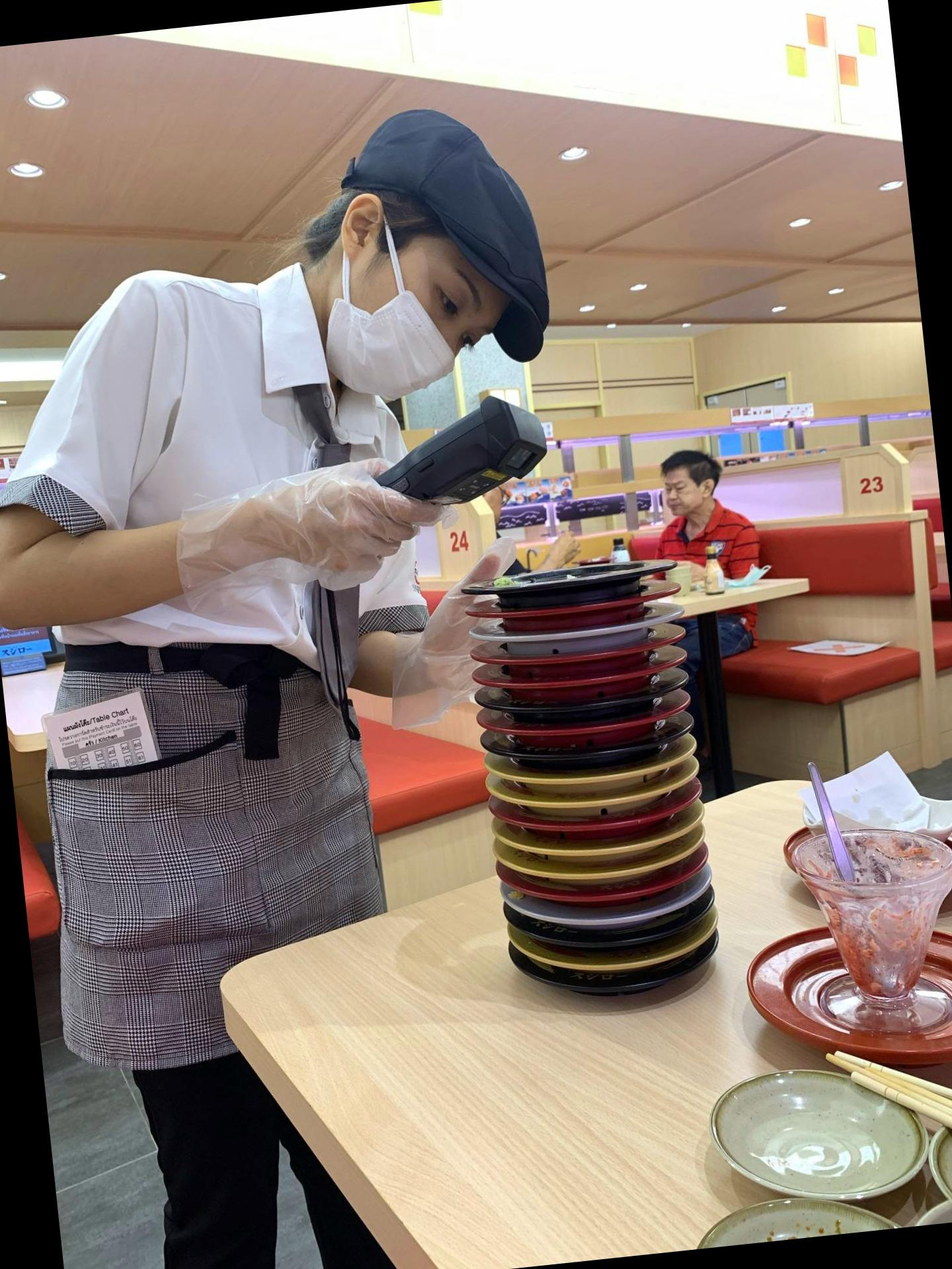Janback: (472, 559, 680, 604), (482, 689, 695, 724), (497, 736, 681, 774), (529, 923, 709, 954), (539, 968, 696, 1002)
Jangold: (515, 821, 696, 866), (520, 759, 679, 796), (522, 781, 680, 817), (552, 941, 699, 978), (539, 853, 691, 887)
Janred: (475, 593, 680, 630), (491, 642, 679, 679), (502, 713, 674, 747), (500, 667, 665, 701), (542, 876, 691, 909), (525, 809, 681, 839)
Janwhite: (496, 618, 668, 654), (531, 902, 693, 931)
